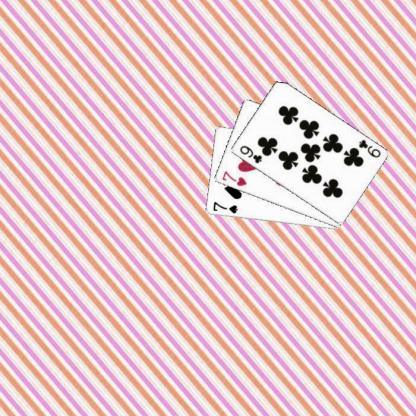7H: (219, 168, 248, 187)
7S: (210, 199, 239, 215)
9C: (237, 142, 263, 165), (356, 137, 382, 159)
